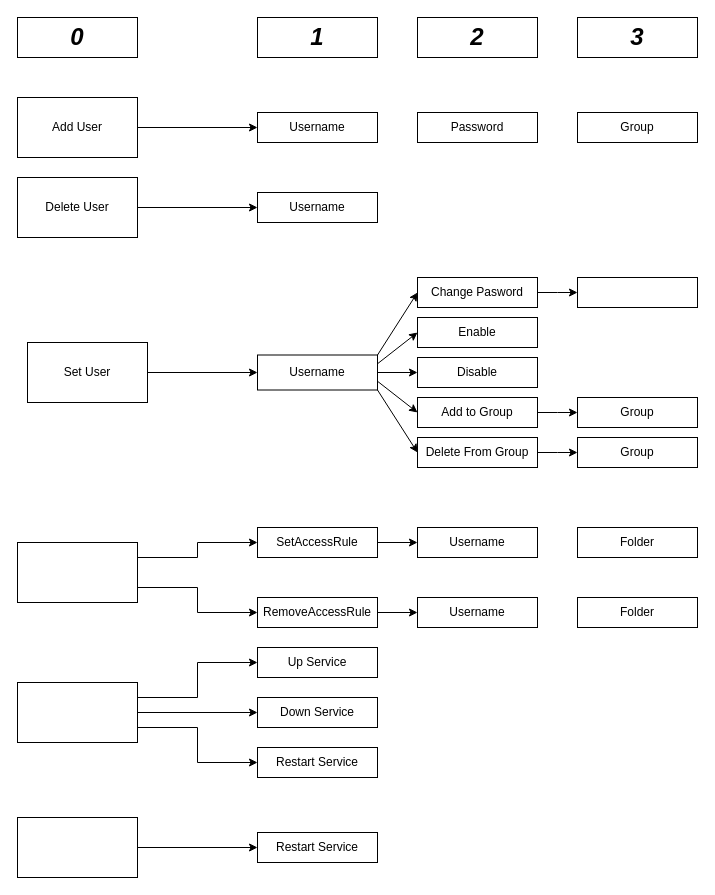
The diagram is 715 pixels wide and 895 high, and some of its shapes have lost their labels. Here are the shapes that lost their labels. From the top down, the box of each, then its label:
(576, 276, 698, 308): New Password
(16, 542, 138, 602): Folder Permissions
(16, 682, 138, 742): Service Control
(16, 816, 138, 878): Reboot
